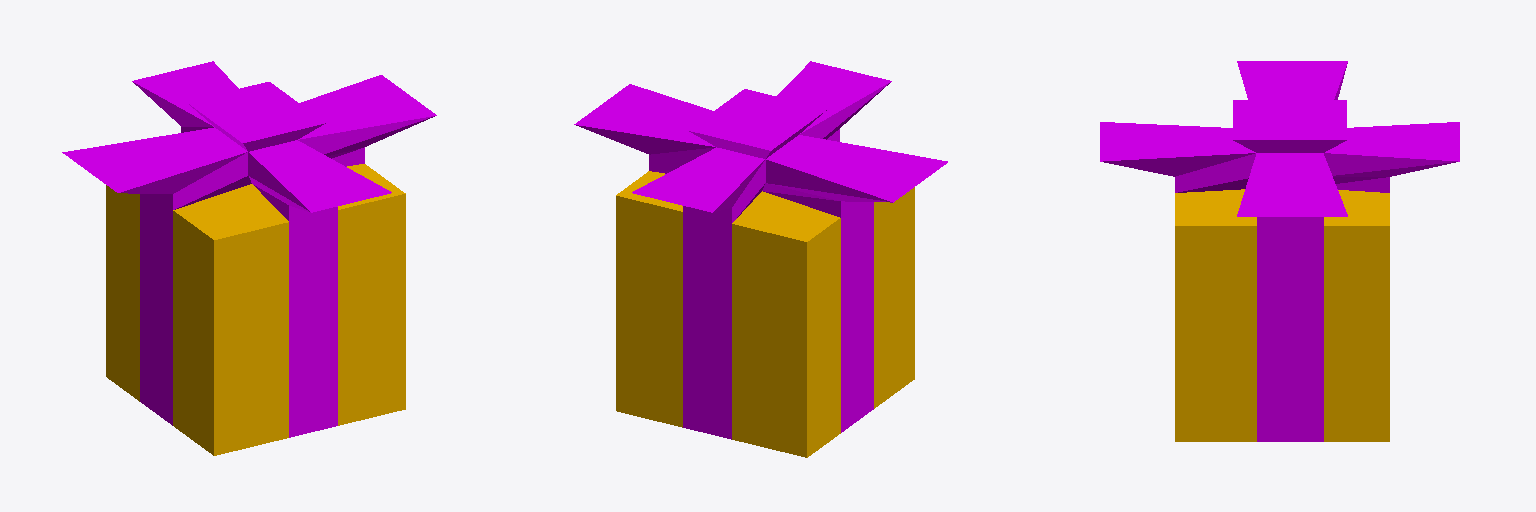
The model's file is Present_2.obj.
3 views of the same model, side by side, from view 1: azimuth 30°, elevation 25°; view 2: azimuth 150°, elevation 25°; view 3: azimuth 270°, elevation 25° (orthographic).
Parts seen in each view (by area): view 1: Box_2; view 2: Box_2; view 3: Box_2.
Part boxes in pixels (x1,y1,x2,y2): Box_2: (62,61,436,455); Box_2: (574,61,947,457); Box_2: (1100,61,1459,441).
Size of the model in its own units: 0.6177 by 0.5122 by 0.6027.